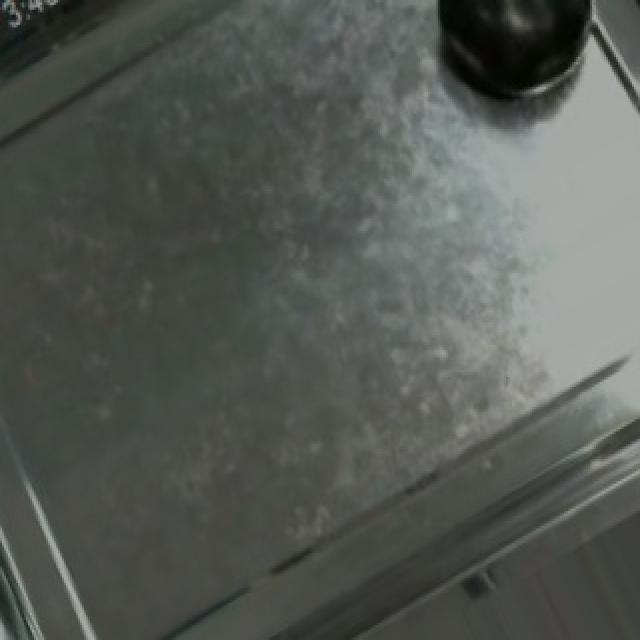Fruit: (418, 0, 604, 119)
